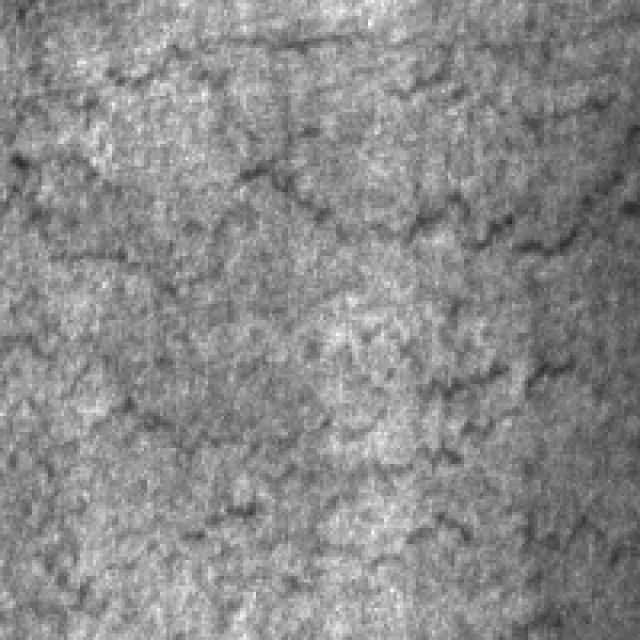crazing: (109, 0, 637, 262), (22, 355, 522, 605), (0, 29, 342, 384), (381, 346, 624, 630)
